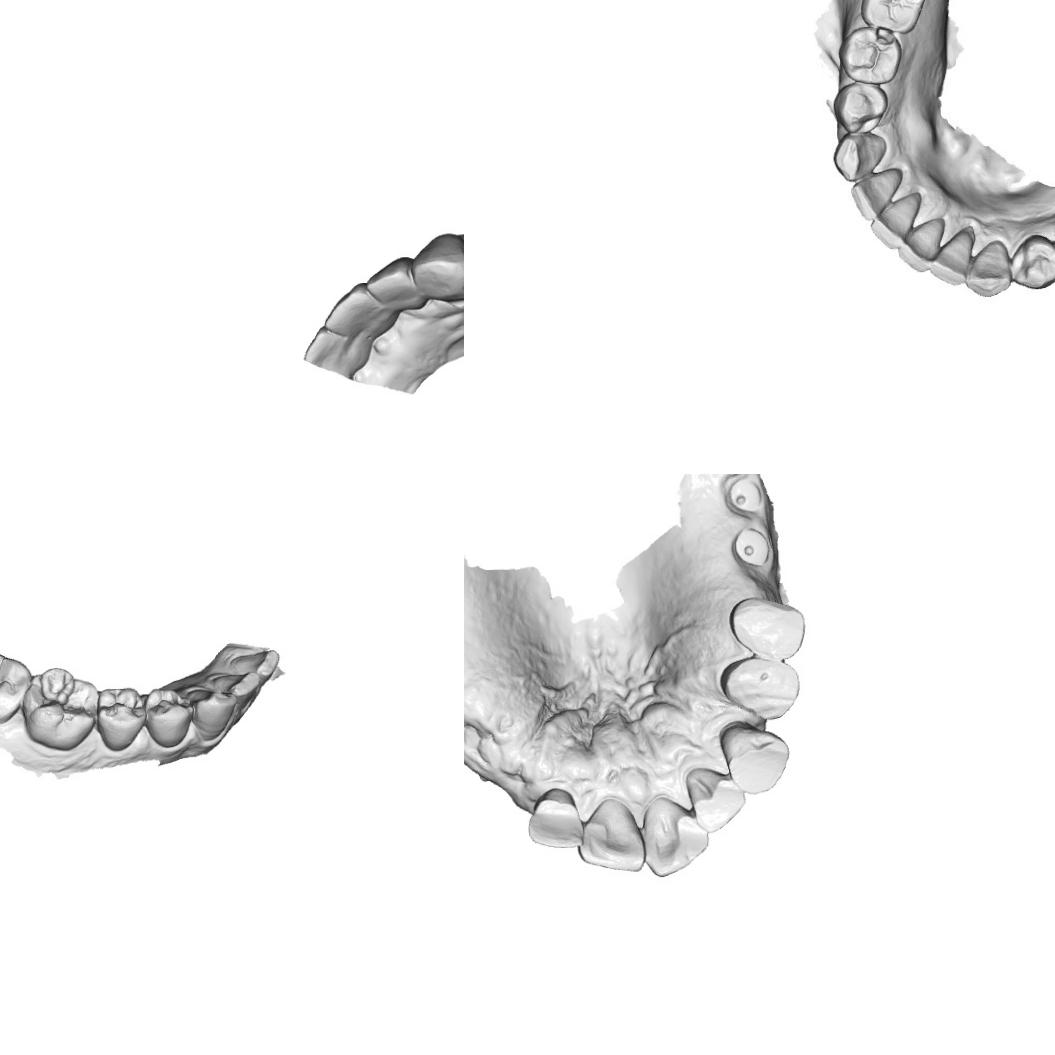canine: (720, 722, 791, 798), (409, 231, 464, 307), (184, 682, 238, 744), (832, 131, 892, 182), (966, 239, 1014, 299)
implant: (730, 524, 770, 570), (723, 477, 764, 518)
incisor: (575, 796, 649, 874), (643, 800, 710, 879), (682, 764, 750, 835), (318, 279, 389, 339), (524, 786, 584, 850), (300, 324, 368, 378), (895, 215, 952, 273), (364, 256, 423, 312), (870, 192, 926, 250), (847, 166, 902, 223), (928, 228, 972, 290), (205, 667, 264, 706), (224, 647, 281, 682)
molar: (19, 664, 104, 754), (0, 647, 33, 726), (859, 0, 926, 33)
premolar: (718, 655, 803, 722), (728, 594, 807, 659), (837, 24, 903, 84), (93, 683, 147, 754), (141, 684, 193, 750), (834, 78, 888, 135), (1009, 233, 1055, 290)
